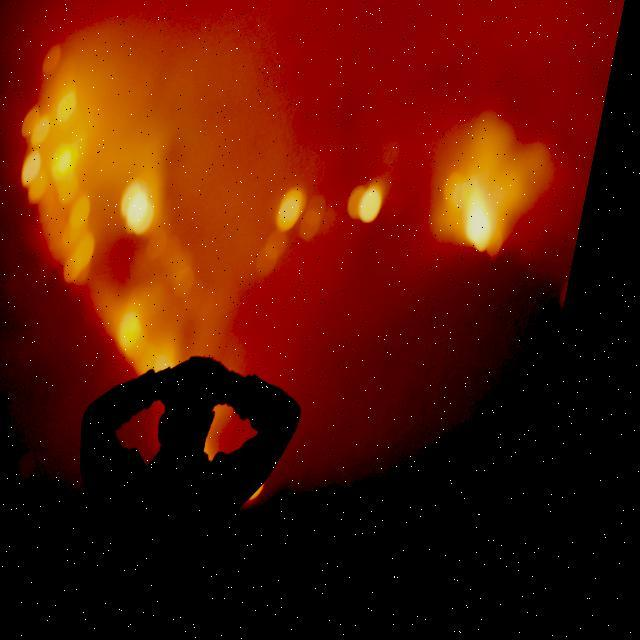Fire: (0, 30, 261, 398), (442, 129, 576, 284)
